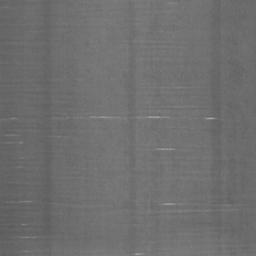Waist folding: (0, 85, 195, 170), (0, 199, 61, 240), (124, 201, 237, 215), (124, 146, 187, 153), (133, 40, 171, 46), (127, 251, 160, 256), (224, 243, 256, 247), (204, 115, 222, 122), (56, 77, 114, 79), (0, 41, 22, 46)
